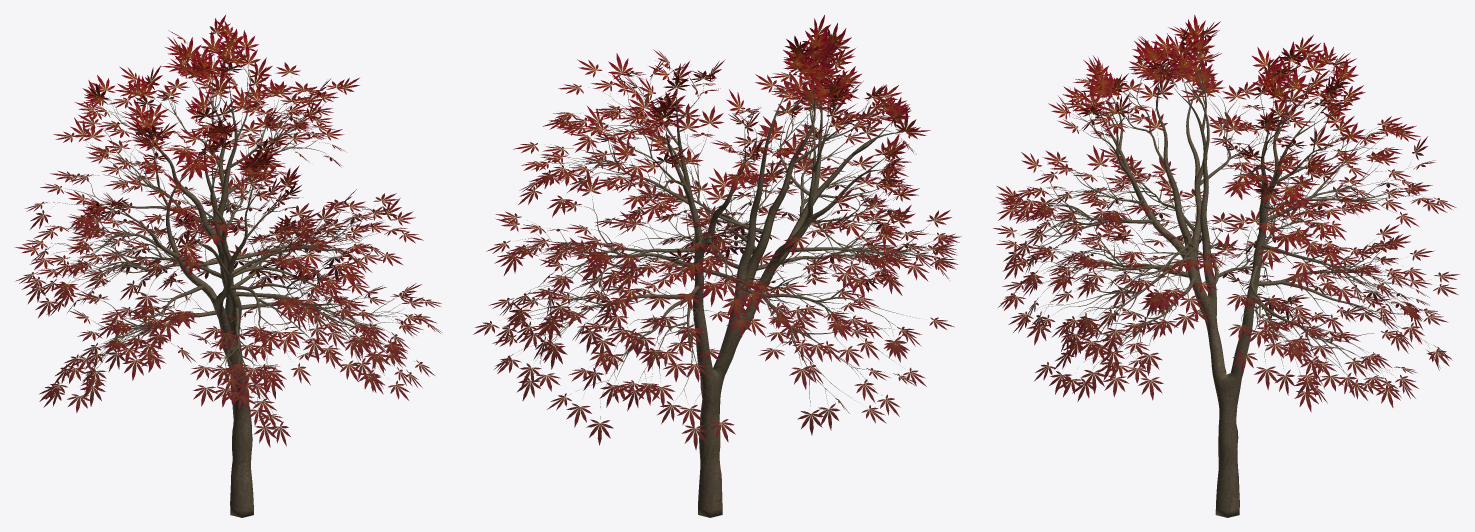
Rendered from tree_maple.glb.
3 views of the same model, side by side, from view 1: azimuth 30°, elevation 25°; view 2: azimuth 150°, elevation 25°; view 3: azimuth 270°, elevation 25° (orthographic). The views are drawn at different scales.
Parts seen in each view (by area): view 1: tree trunk_tree trunk_0; view 2: tree trunk_tree trunk_0; view 3: tree trunk_tree trunk_0.
Boxes of the visible parts, x1,y1,x2,y2 form: tree trunk_tree trunk_0: [14, 15, 441, 517]; tree trunk_tree trunk_0: [473, 15, 961, 517]; tree trunk_tree trunk_0: [993, 14, 1459, 517].
Bounding box in the file's own units: 5.28 × 6 × 5.55.
2 materials, 2 textured.
